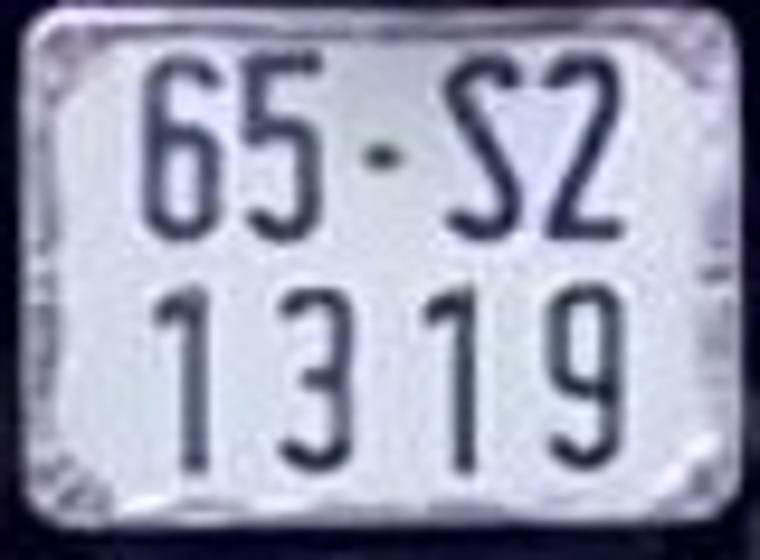-: (356, 142, 406, 177)
1: (149, 280, 226, 487), (419, 272, 491, 477)
2: (539, 42, 631, 249)
3: (272, 284, 359, 473)
5: (233, 50, 335, 242)
6: (139, 51, 224, 238)
9: (541, 280, 634, 473)
S: (437, 48, 533, 243)
